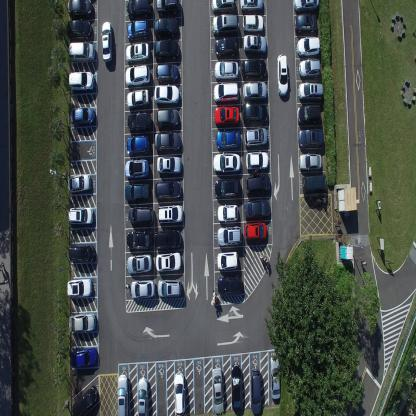car: (71, 384, 100, 416), (70, 344, 98, 369), (211, 366, 225, 415), (68, 68, 94, 94), (69, 40, 95, 65), (125, 64, 151, 89), (66, 277, 94, 300), (212, 150, 241, 172), (68, 312, 97, 334), (230, 363, 243, 412), (245, 172, 270, 197), (124, 180, 150, 204), (212, 80, 238, 104), (297, 126, 324, 149), (153, 130, 181, 152), (153, 228, 182, 249), (214, 175, 240, 198), (301, 173, 327, 196), (126, 252, 152, 275), (213, 104, 239, 127), (153, 84, 180, 106), (241, 102, 268, 124), (296, 34, 320, 58), (126, 18, 150, 42), (294, 11, 317, 36), (125, 41, 150, 64), (66, 18, 91, 41), (153, 16, 179, 38), (157, 203, 183, 225), (126, 230, 152, 252), (128, 204, 154, 226), (124, 157, 150, 179), (126, 110, 152, 132), (241, 58, 267, 80), (213, 58, 239, 80), (212, 12, 238, 34), (153, 39, 180, 60), (154, 179, 181, 200), (250, 368, 262, 415), (269, 355, 281, 401), (214, 36, 238, 59), (67, 244, 96, 263), (216, 129, 241, 151), (243, 126, 268, 148), (296, 102, 321, 124), (298, 80, 323, 102), (130, 278, 155, 300), (216, 225, 242, 246), (244, 198, 270, 219), (156, 154, 182, 175), (155, 251, 181, 272), (70, 106, 96, 127), (276, 52, 288, 97), (101, 19, 113, 64), (126, 133, 149, 156), (243, 220, 267, 242), (126, 87, 150, 109), (243, 34, 267, 56), (157, 277, 182, 298), (67, 172, 92, 193), (242, 81, 267, 102), (68, 206, 94, 226), (173, 372, 185, 415), (298, 57, 321, 79), (218, 274, 242, 295), (155, 63, 179, 84), (156, 108, 180, 129), (117, 373, 129, 415), (126, 0, 152, 19), (66, 0, 93, 18), (245, 150, 269, 170), (137, 376, 149, 416), (216, 249, 238, 270), (299, 152, 321, 172), (155, 0, 180, 17), (216, 203, 238, 222), (242, 14, 264, 33), (239, 0, 265, 14), (211, 0, 235, 13), (293, 0, 320, 11)
